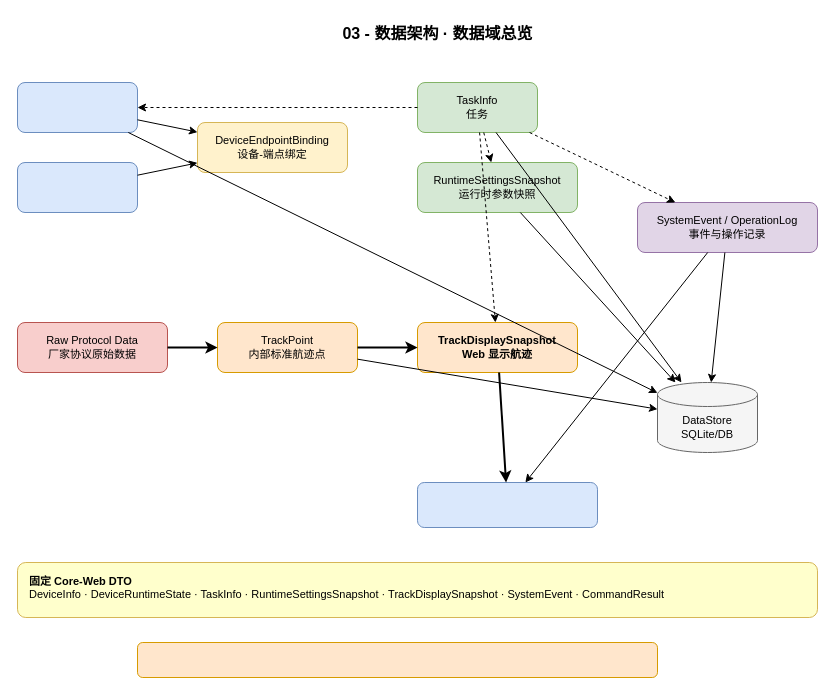
The diagram is 835 pixels wide and 695 high, and some of its shapes have lost their labels. The centre of each missing label's shape, as x and y in pixels:
"Core-Web Fixed DTO" belongs at (x=507, y=505).
"DeviceInfo 设备台账" belongs at (x=77, y=107).
"EndpointConfig 通信端点" belongs at (x=77, y=187).
"航迹数据链：Raw Protocol Data → TrackPoint → TrackDisplaySnapshot → Web DTO" belongs at (x=397, y=660).
